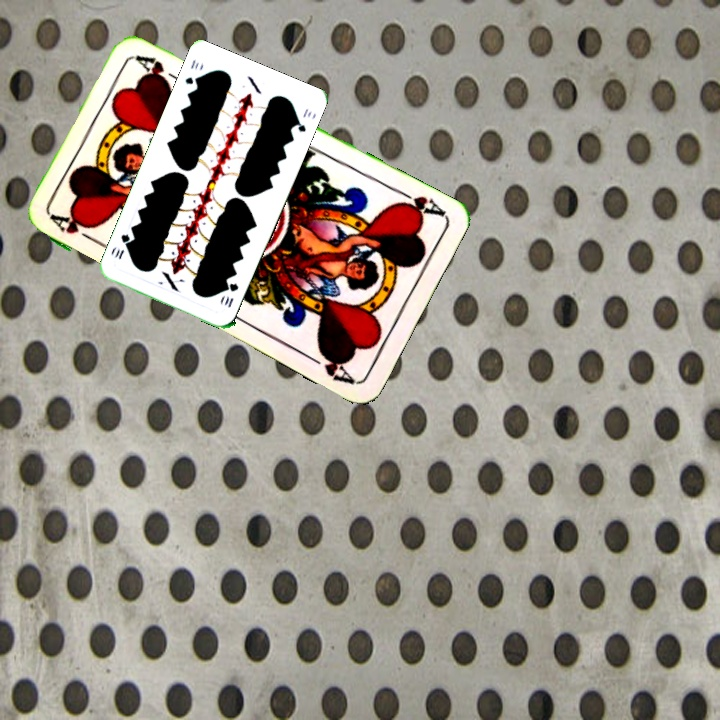G10: (181, 55, 202, 88), (221, 279, 241, 310)
HA: (47, 210, 103, 247), (391, 184, 447, 220)
